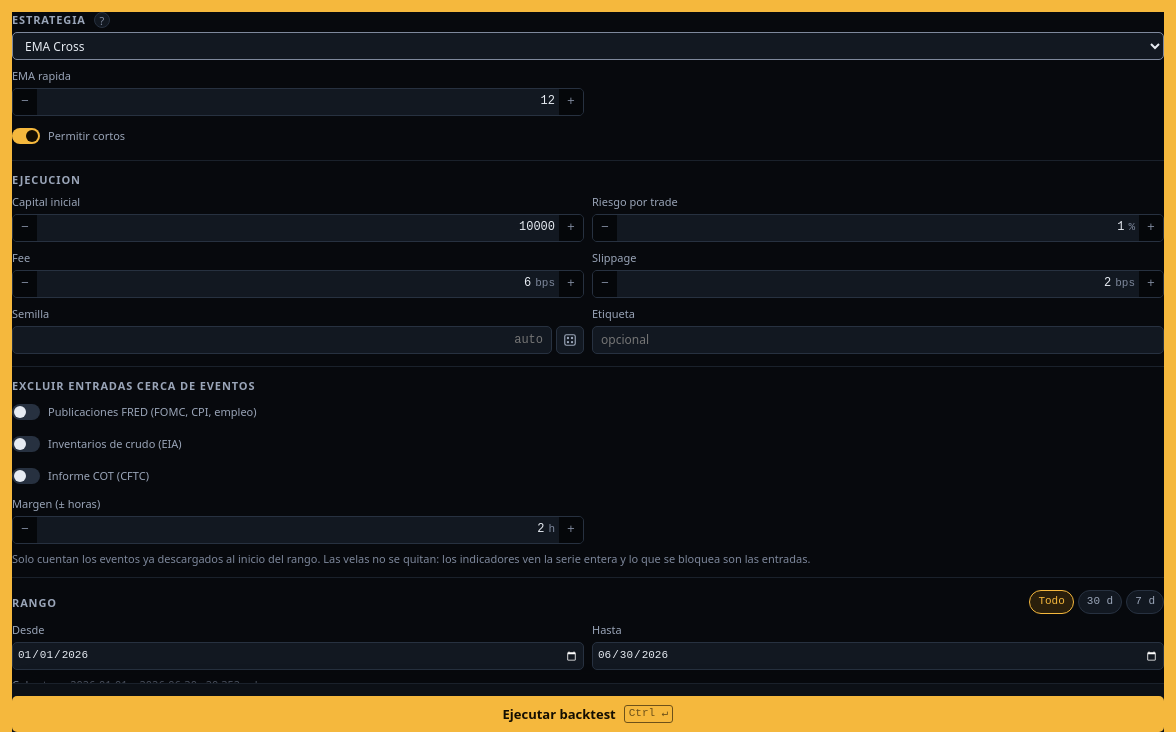
Test: controles del panel de parametros › los atajos de rango rellenan las fechas y marcan el activo
Expected: the number field labelled "EMA rapida" is shown, [37,89,559,115]
Click the button "7 d" at (1145, 602), box [1126,590,1164,614]
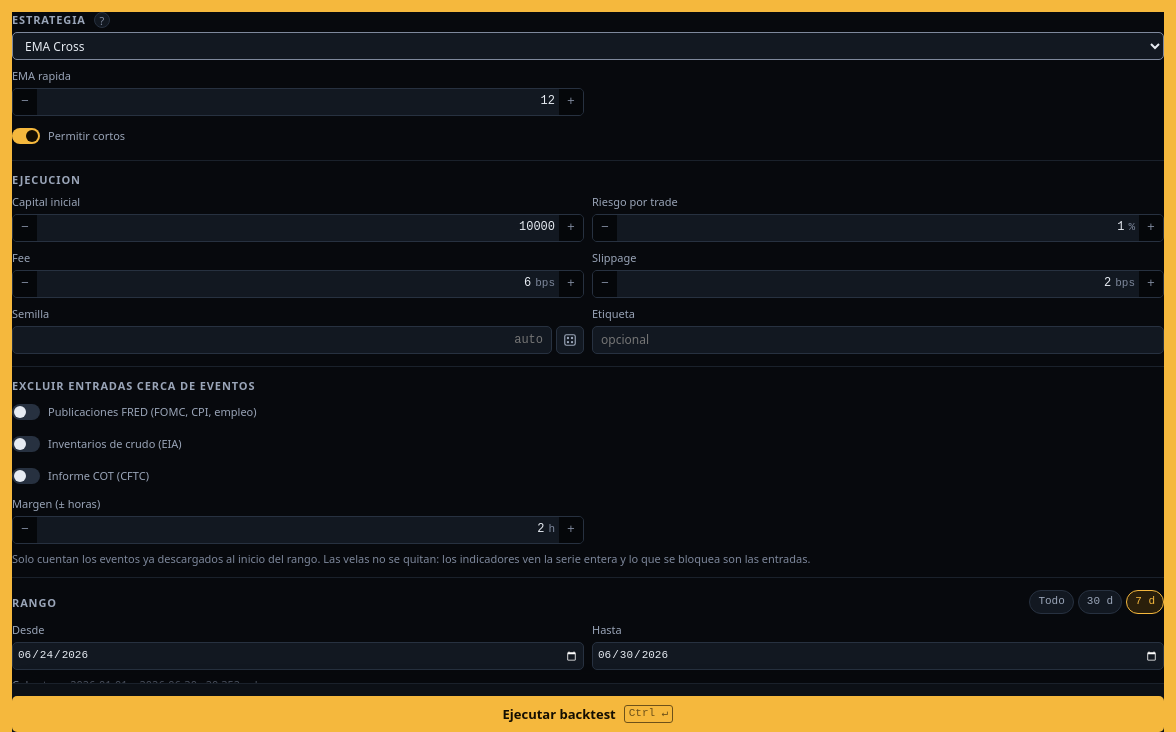
Expected: the date field labelled "Hasta" holds "2026-06-30", [592,642,1164,670]
Result: the date field labelled "Desde" holds "2026-06-24" at [12,642,584,670]
